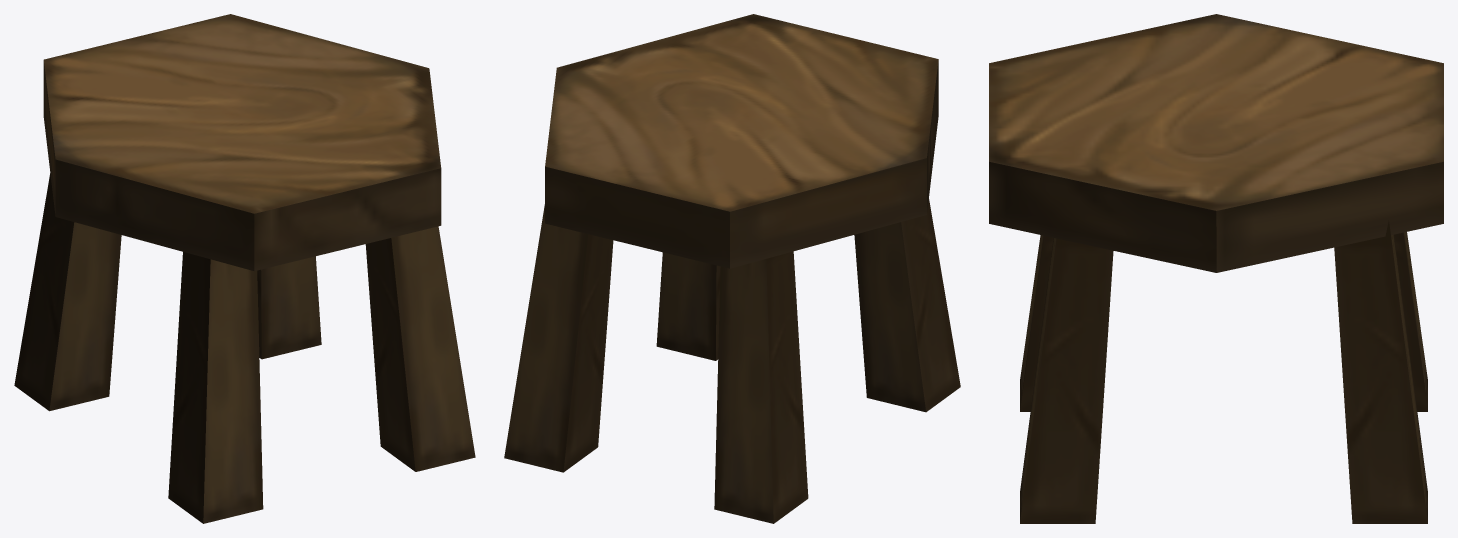
The model's file is OutdoorM_Table_a_stool.FBX.
3 renders of one model, left to right at view 1: azimuth 30°, elevation 25°; view 2: azimuth 150°, elevation 25°; view 3: azimuth 270°, elevation 25°, orthographic. The views are drawn at different scales.
Parts seen in each view (by area): view 1: OutdoorM_Table_a_stool; view 2: OutdoorM_Table_a_stool; view 3: OutdoorM_Table_a_stool.
Part boxes in pixels (bbox=[...]): OutdoorM_Table_a_stool: bbox=[14, 14, 475, 523]; OutdoorM_Table_a_stool: bbox=[504, 14, 960, 523]; OutdoorM_Table_a_stool: bbox=[989, 14, 1443, 523].
Bounding box in the file's own units: 5.67 × 4.52 × 5.53.
